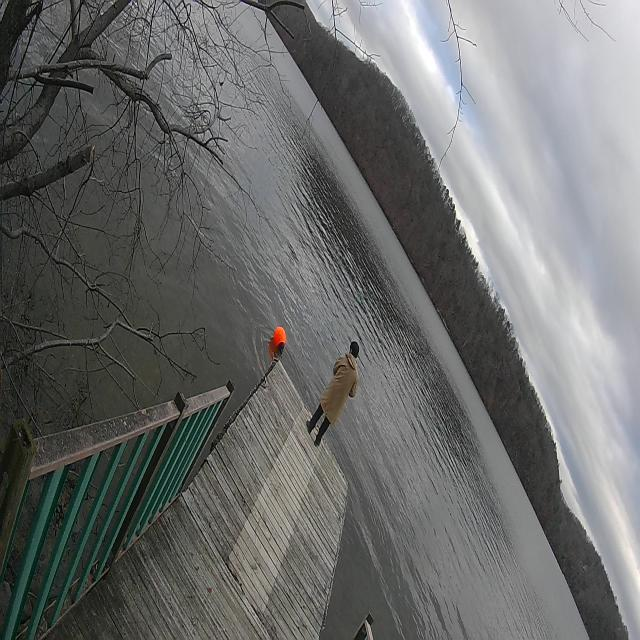Buoy: (273, 322, 287, 357)
